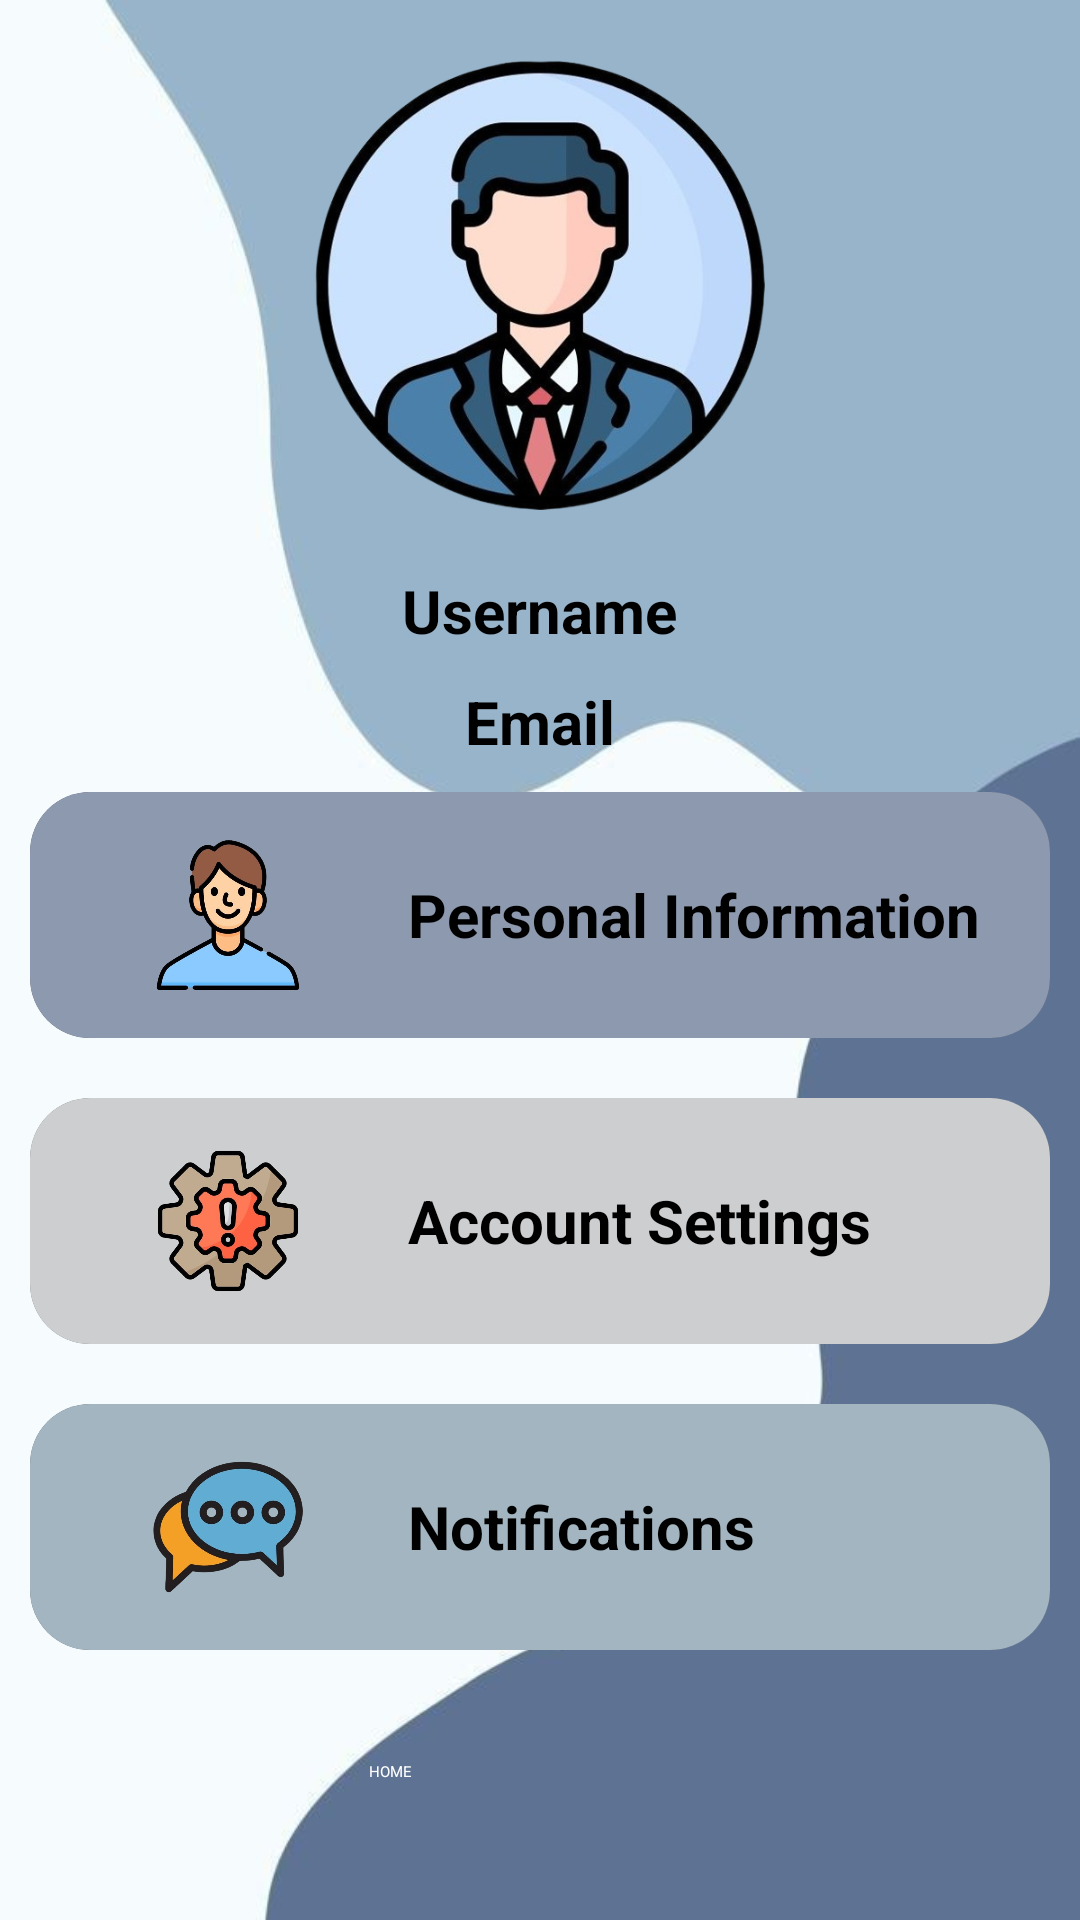

Locate icon controls on the screen. Image size 1080*1920, boxes as (x1, y1, x2, y2).
paramatre account: (158, 1151, 298, 1291)
profile info: (157, 840, 299, 990)
